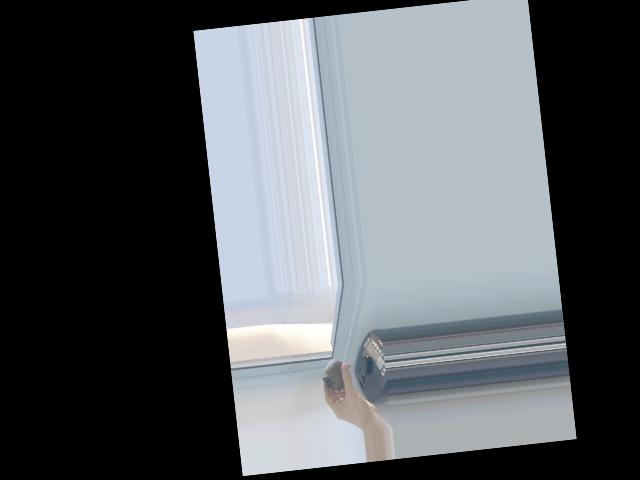beet: (320, 357, 354, 394)
